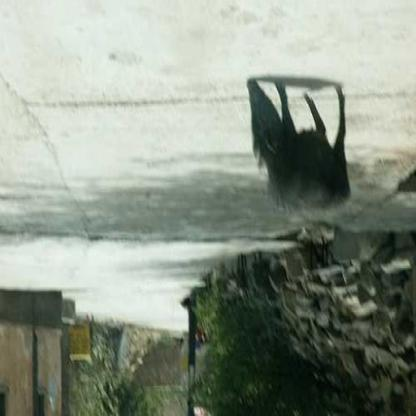boar: (250, 85, 375, 230)
